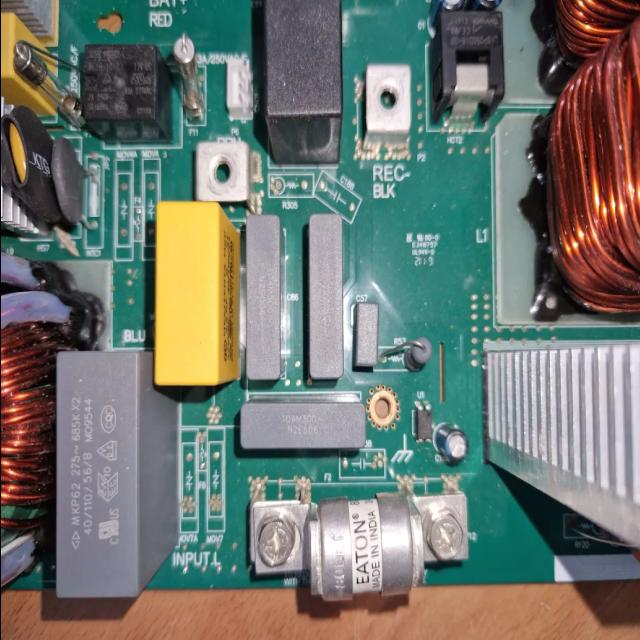A: (529, 0, 640, 326), (0, 250, 56, 600)
B: (244, 490, 464, 602)
